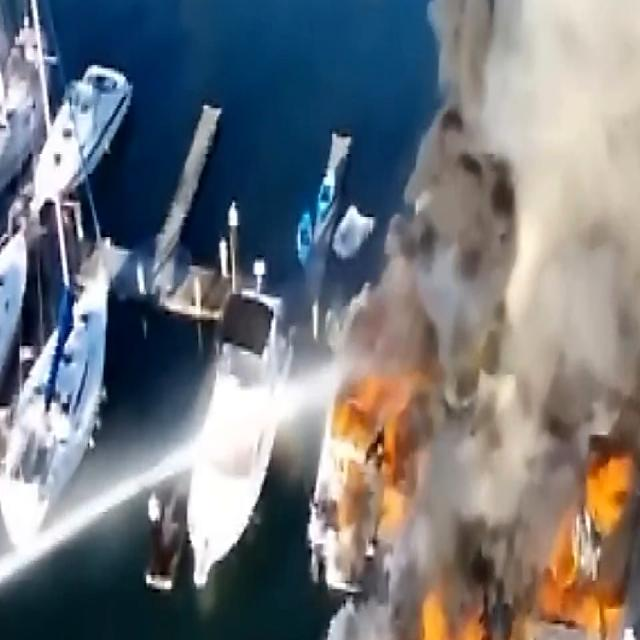fire: (550, 486, 618, 623), (357, 597, 473, 640)
smoke: (443, 0, 640, 276)
